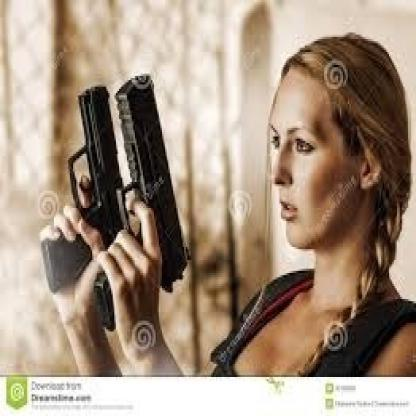Pistol: (59, 63, 196, 332), (18, 76, 134, 288)
